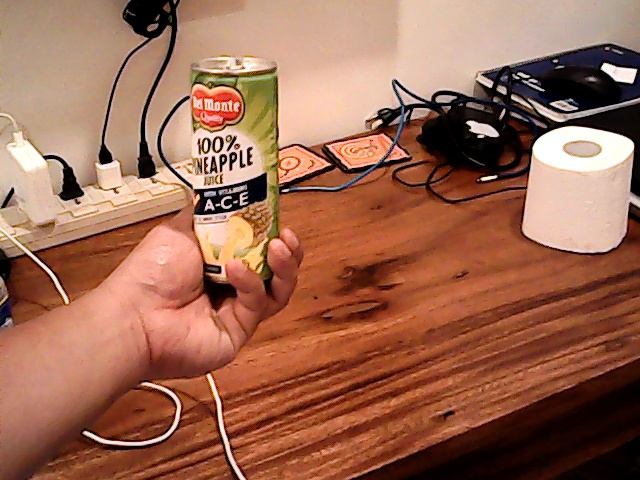Pine Juice: (163, 37, 299, 302)
